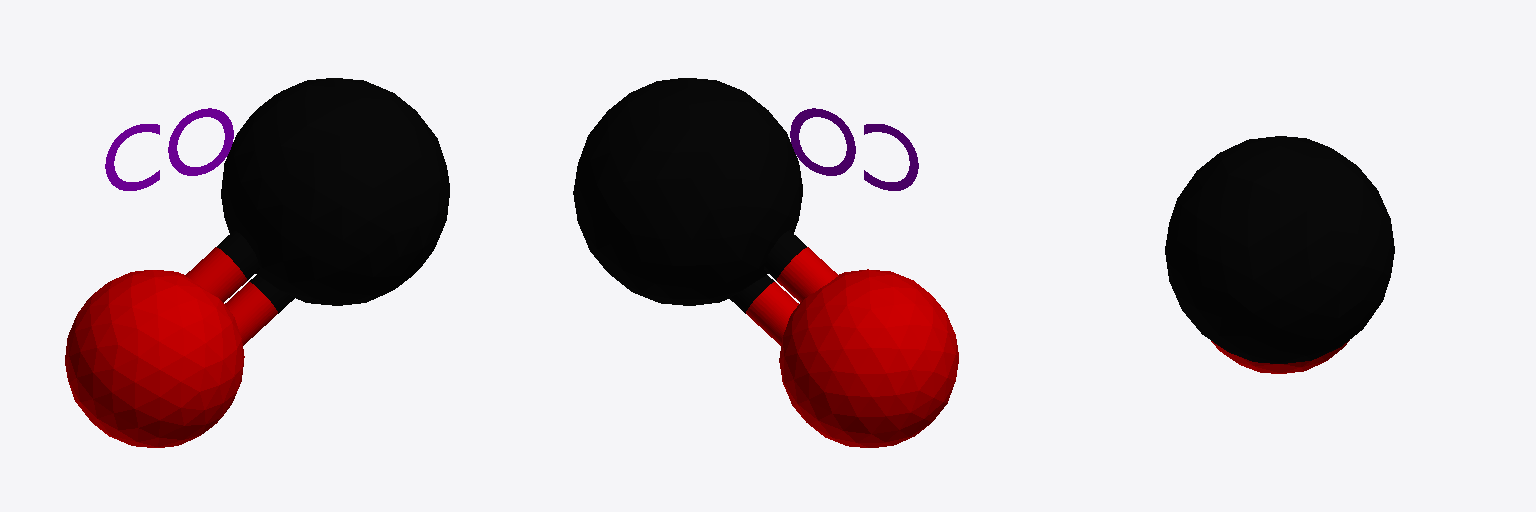
3 views of the same model, side by side, from view 1: azimuth 30°, elevation 25°; view 2: azimuth 150°, elevation 25°; view 3: azimuth 270°, elevation 25° (orthographic).
Visible parts, largest first — view 1: Shape_IndexedFaceSet.003_Shape_IndexedFaceSet.7158, Shape_IndexedFaceSet.002_Shape_IndexedFaceSet.7157, Text_Text.237; view 2: Shape_IndexedFaceSet.003_Shape_IndexedFaceSet.7158, Shape_IndexedFaceSet.002_Shape_IndexedFaceSet.7157, Text_Text.237; view 3: Shape_IndexedFaceSet.003_Shape_IndexedFaceSet.7158, Shape_IndexedFaceSet.002_Shape_IndexedFaceSet.7157.
Boxes of the visible parts, <box> form: Shape_IndexedFaceSet.003_Shape_IndexedFaceSet.7158: <box>217,78,449,313</box>; Shape_IndexedFaceSet.002_Shape_IndexedFaceSet.7157: <box>65,247,277,447</box>; Text_Text.237: <box>105,108,233,190</box>; Shape_IndexedFaceSet.003_Shape_IndexedFaceSet.7158: <box>573,78,806,313</box>; Shape_IndexedFaceSet.002_Shape_IndexedFaceSet.7157: <box>746,247,958,447</box>; Text_Text.237: <box>790,108,918,190</box>; Shape_IndexedFaceSet.003_Shape_IndexedFaceSet.7158: <box>1165,136,1394,363</box>; Shape_IndexedFaceSet.002_Shape_IndexedFaceSet.7157: <box>1211,340,1349,373</box>.
Size of the model in its own units: 16.08 by 13.7 by 8.94.